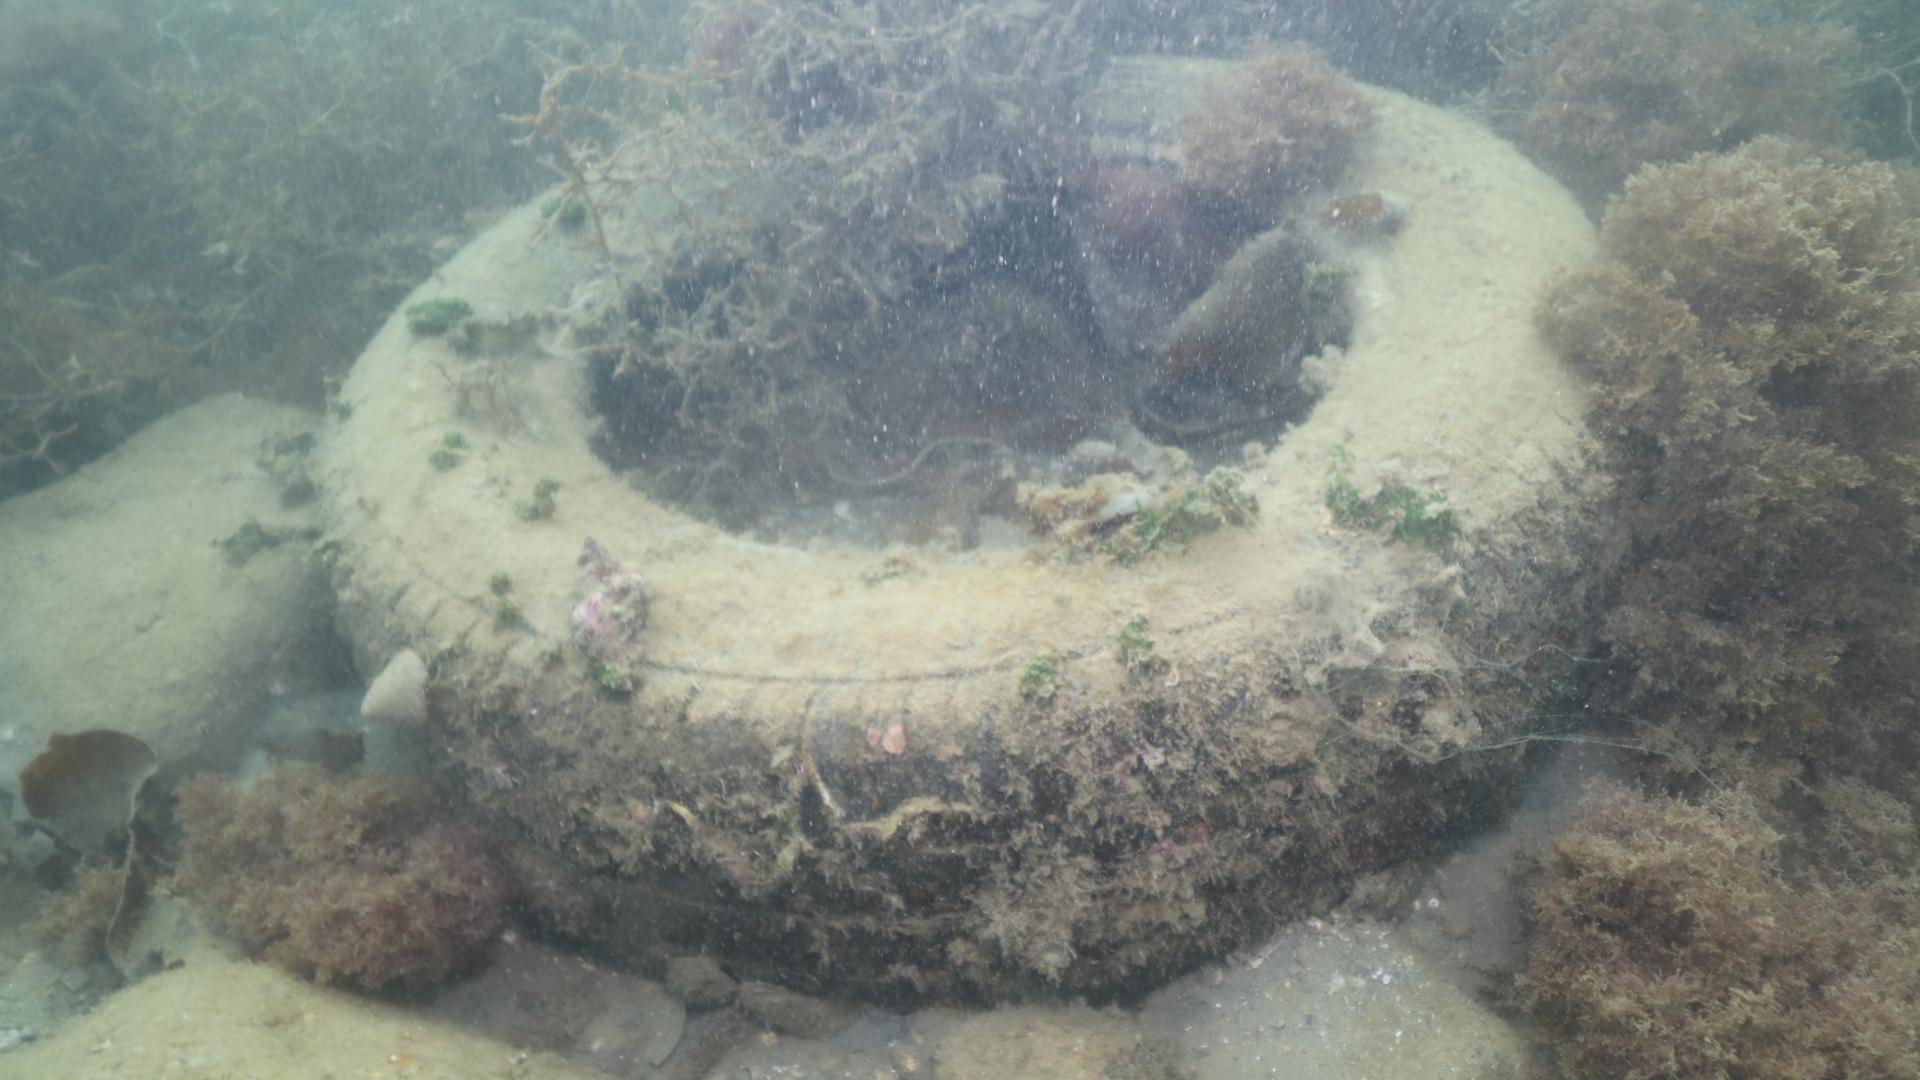tire: (315, 44, 1623, 1013)
